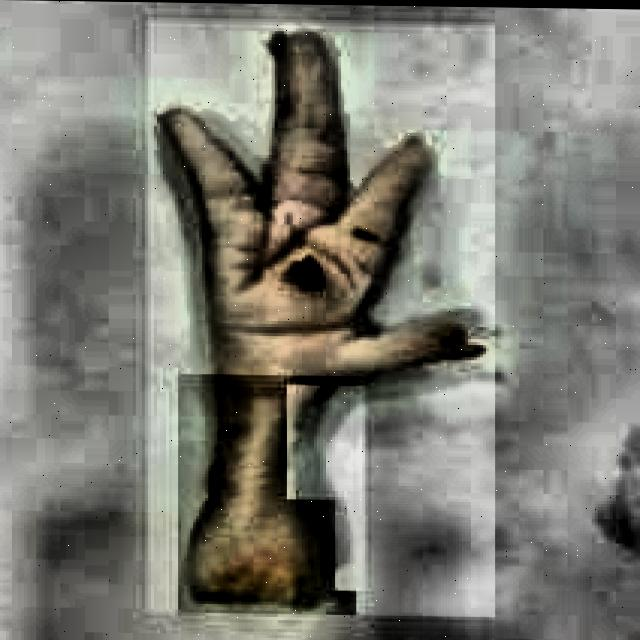Bumble foot: (154, 23, 489, 609)
